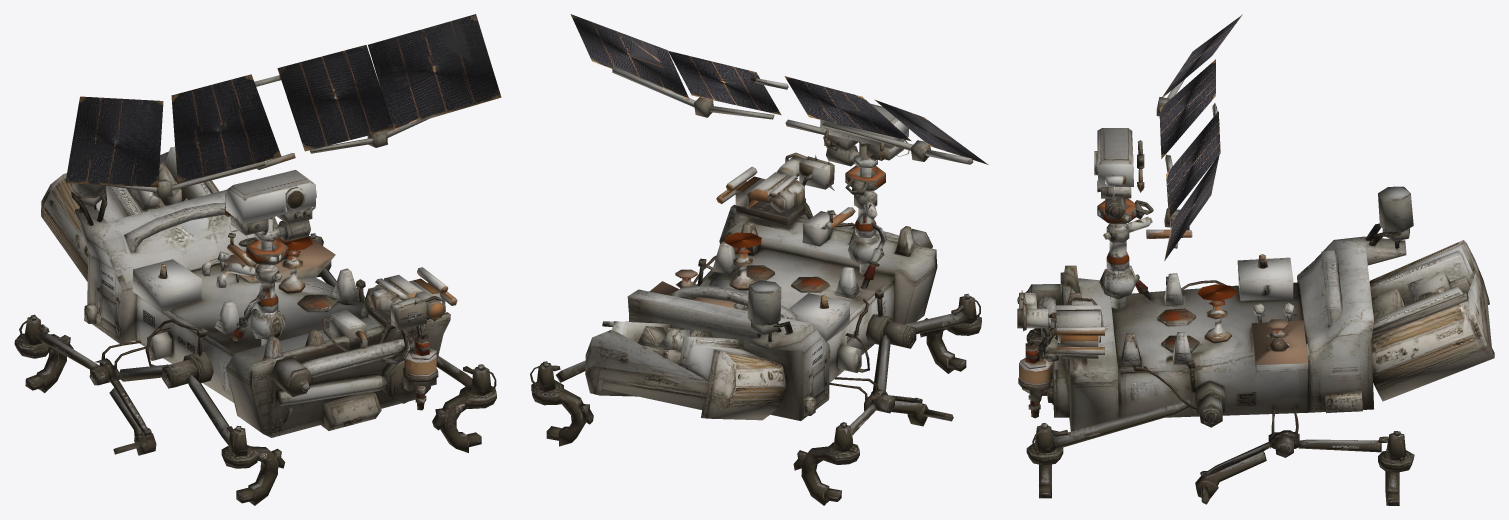
3 renders of one model, left to right at view 1: azimuth 30°, elevation 25°; view 2: azimuth 150°, elevation 25°; view 3: azimuth 270°, elevation 25°, orthographic. The views are drawn at different scales.
Visible parts, largest first — view 1: tripo_node_ffcf88e2-1f52-4163-8964-03743b5a46d1; view 2: tripo_node_ffcf88e2-1f52-4163-8964-03743b5a46d1; view 3: tripo_node_ffcf88e2-1f52-4163-8964-03743b5a46d1.
Part boxes in pixels (x1,y1,x2,y2): tripo_node_ffcf88e2-1f52-4163-8964-03743b5a46d1: (14, 14, 501, 505); tripo_node_ffcf88e2-1f52-4163-8964-03743b5a46d1: (530, 14, 988, 505); tripo_node_ffcf88e2-1f52-4163-8964-03743b5a46d1: (1017, 14, 1494, 505).
Bounding box in the file's own units: 0.998 × 0.8027 × 0.9902.
1 material, 1 textured.
